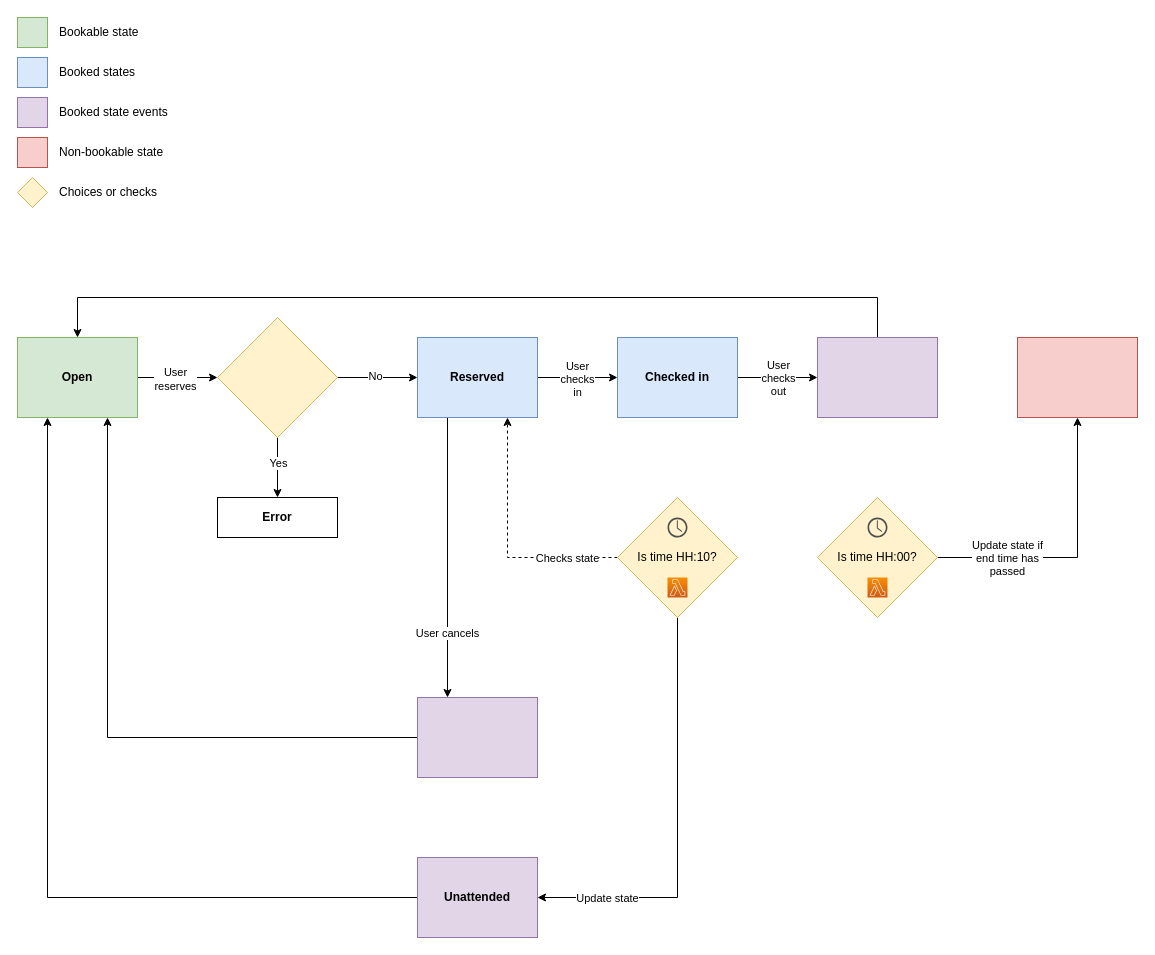
This 1155x955 diagram has some shape labels left out. Here are the shapes that lost their labels. From the top down, the centre of each, then its label:
(x=277, y=377): Has end time passed?
(x=877, y=377): Checked out
(x=1077, y=377): Closed
(x=477, y=737): Cancelled
